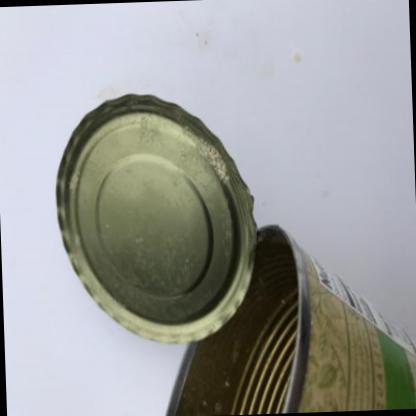Metal: (57, 95, 416, 416)
